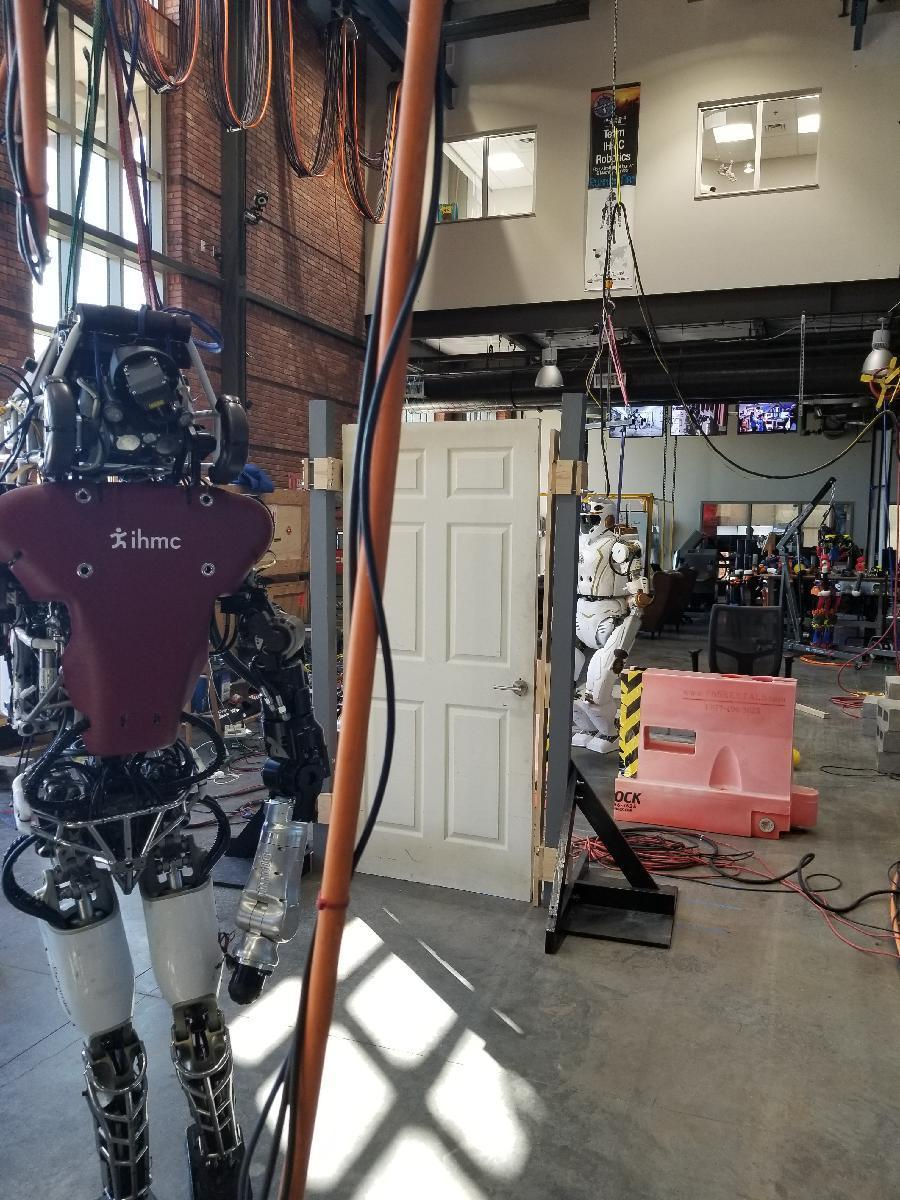door: (344, 423, 542, 903)
handle: (492, 678, 530, 696)
